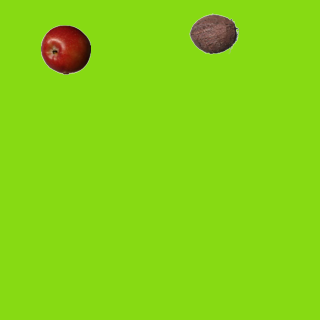Apple Braeburn: (40, 24, 90, 74)
Cocos: (188, 8, 238, 58)
